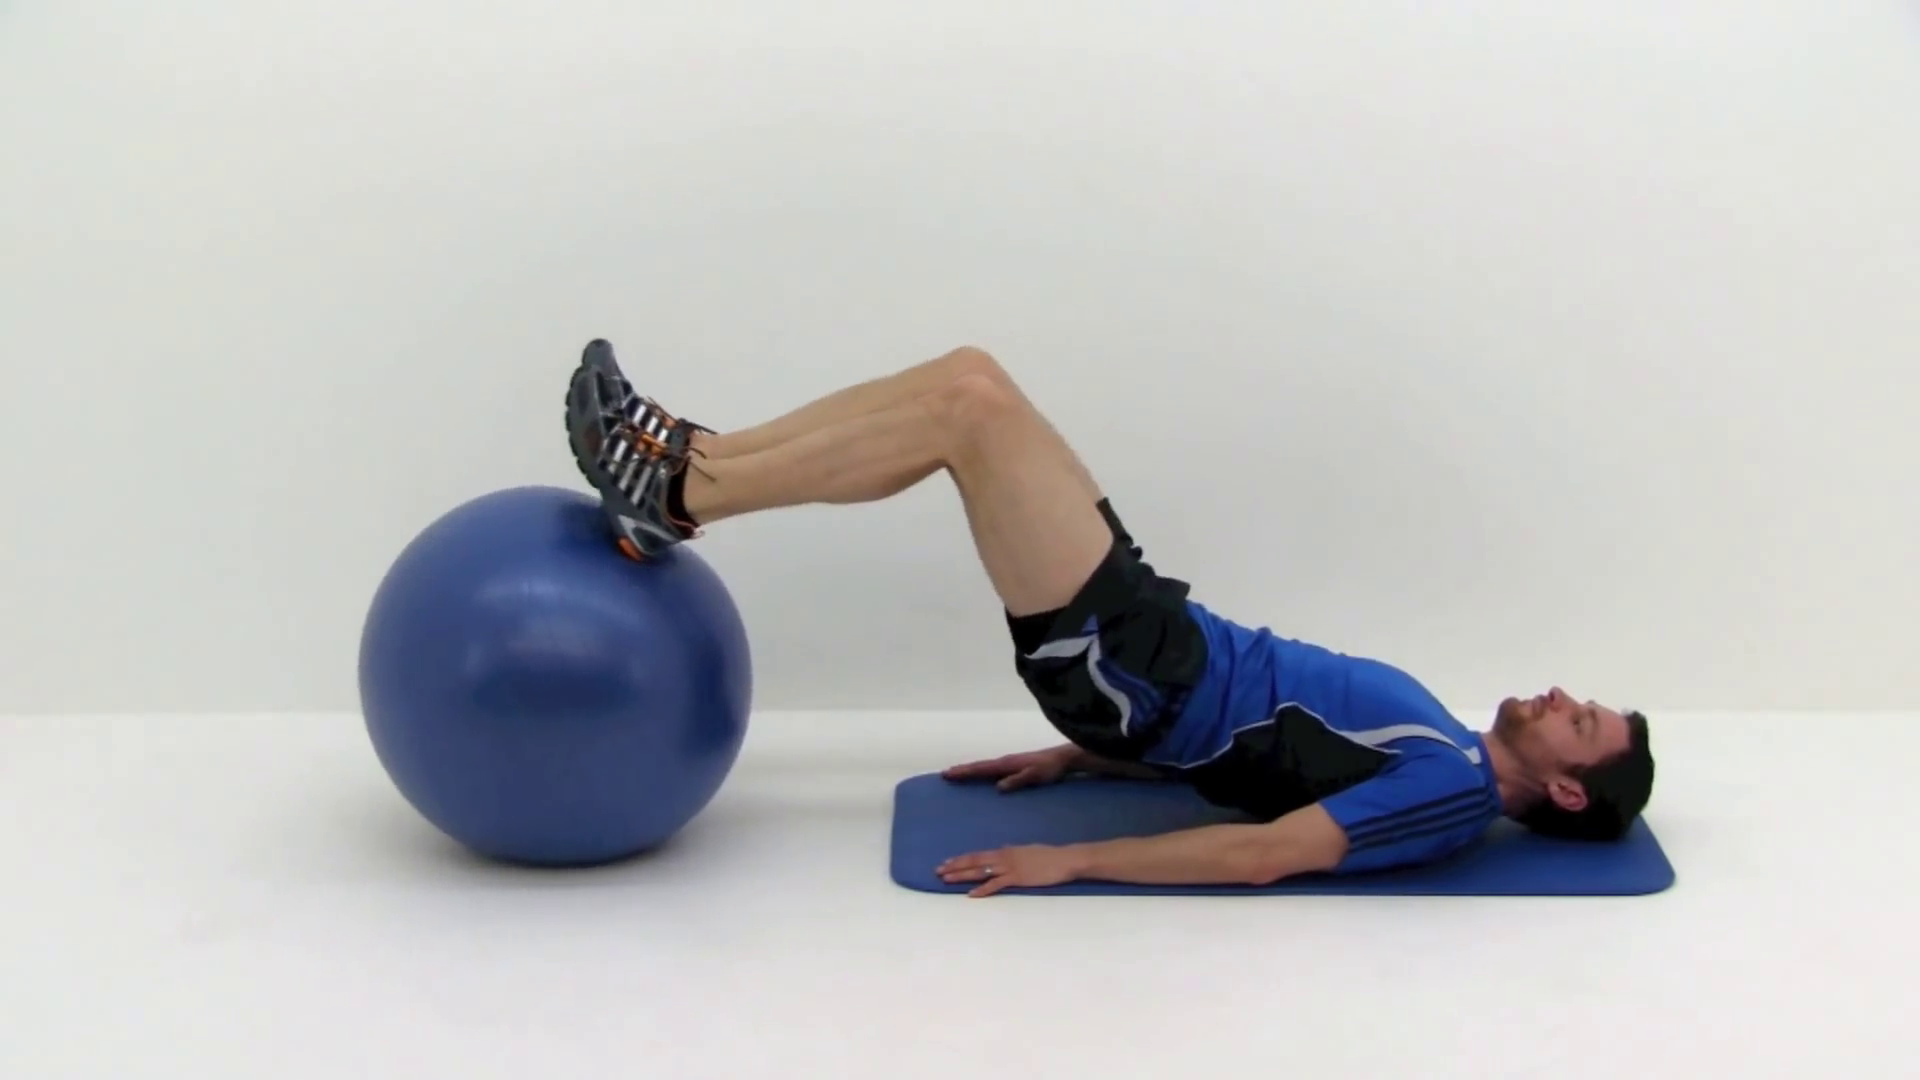yogaball: (351, 477, 765, 884)
